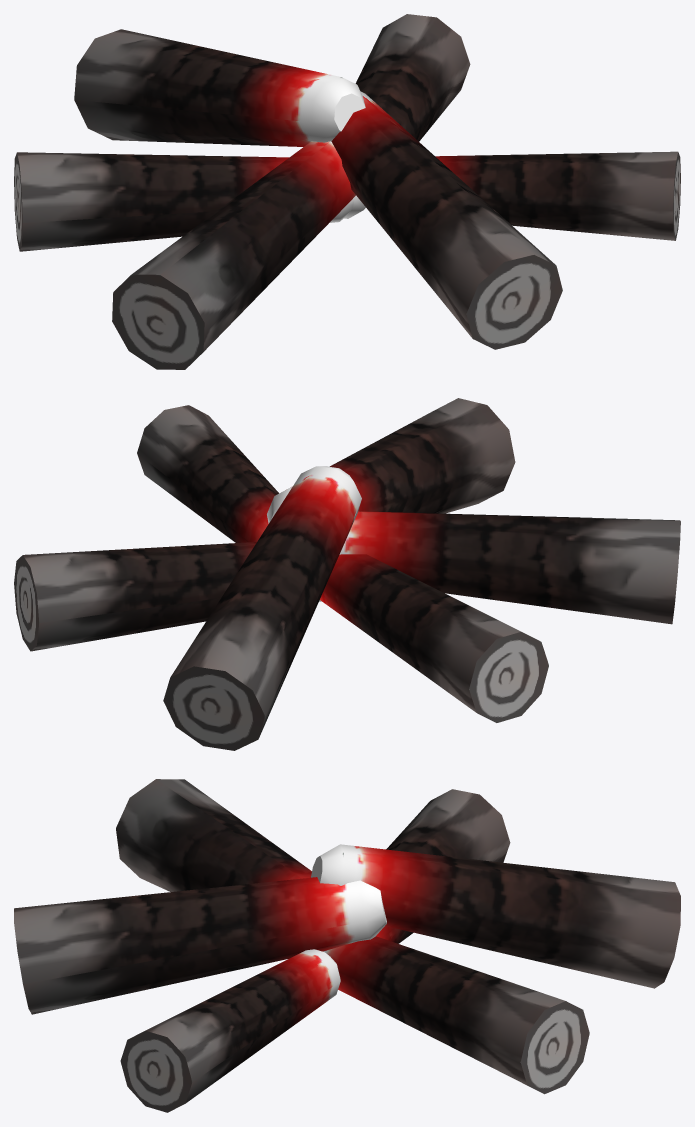
Rendered from CampFire.FBX.
3 views of the same model, one above another, from view 1: azimuth 30°, elevation 25°; view 2: azimuth 150°, elevation 25°; view 3: azimuth 270°, elevation 25° (orthographic). The views are drawn at different scales.
Parts seen in each view (by area): view 1: Cylinder02; view 2: Cylinder02; view 3: Cylinder02.
Part boxes in pixels (bbox=[...]): Cylinder02: bbox=[14, 14, 680, 369]; Cylinder02: bbox=[14, 398, 680, 750]; Cylinder02: bbox=[14, 779, 680, 1112].
Size of the model in its own units: 45.53 by 12.4 by 48.06.
